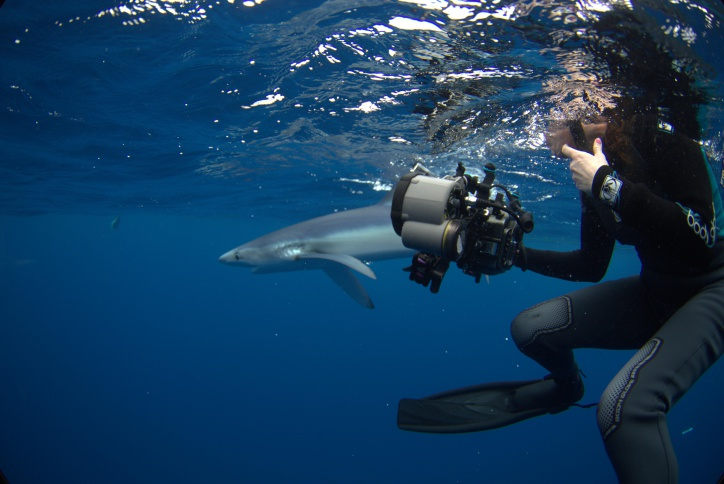Azul: (201, 179, 398, 319)
